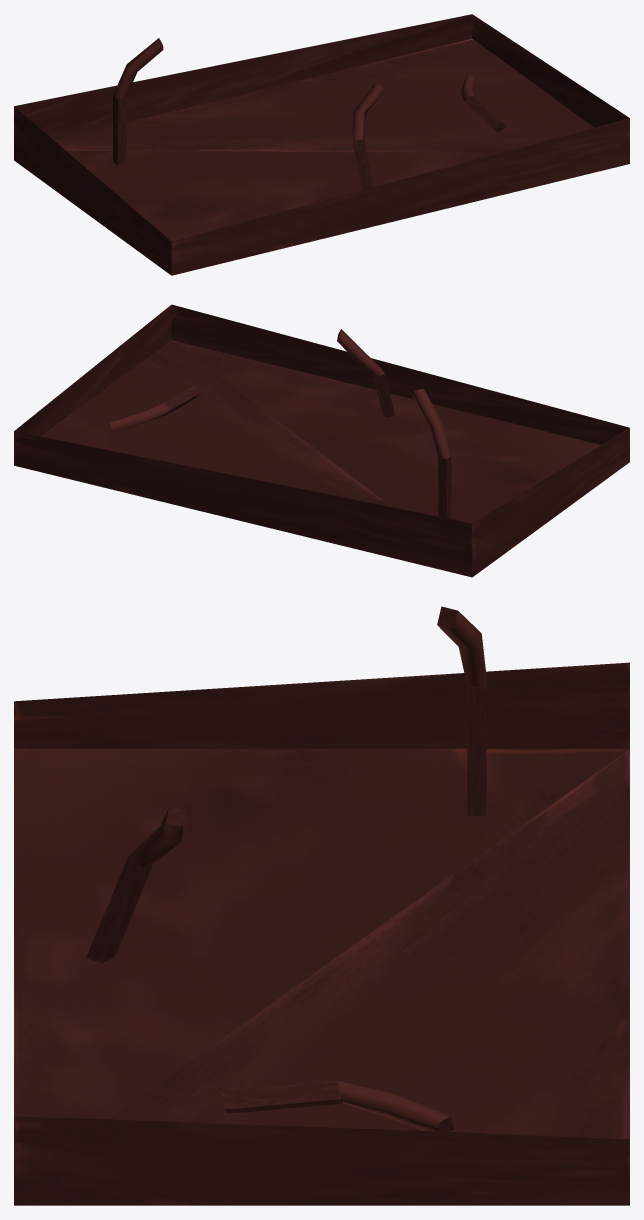
The model's file is bighangerburned.gltf.
The picture shows the model from 3 angles, top to bottom: view 1: azimuth 30°, elevation 25°; view 2: azimuth 150°, elevation 25°; view 3: azimuth 270°, elevation 25°; orthographic projection. The views are drawn at different scales.
Parts seen in each view (by area): view 1: bighangerburned_atomic0; view 2: bighangerburned_atomic0; view 3: bighangerburned_atomic0.
Part boxes in pixels (bbox=[...]): bighangerburned_atomic0: bbox=[14, 14, 629, 275]; bighangerburned_atomic0: bbox=[14, 304, 629, 577]; bighangerburned_atomic0: bbox=[14, 606, 629, 1205].
Size of the model in its own units: 81.24 by 22.04 by 48.39.
Materials: 1 (1 with a texture image).
